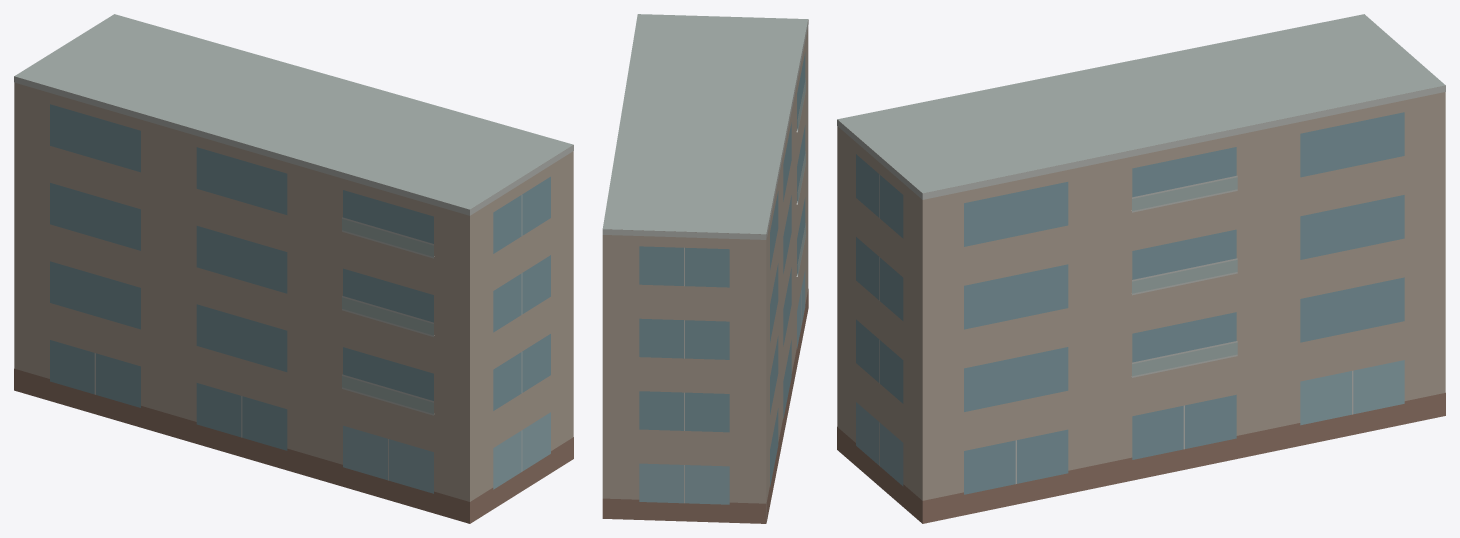
The model's file is survey-upis-32980582.glb.
The picture shows the model from 3 angles, left to right: view 1: azimuth 30°, elevation 25°; view 2: azimuth 150°, elevation 25°; view 3: azimuth 270°, elevation 25°; orthographic projection. The views are drawn at different scales.
Visible parts, largest first — view 1: survey-upis-32980582.tmp; view 2: survey-upis-32980582.tmp; view 3: survey-upis-32980582.tmp.
Part boxes in pixels (<box>): survey-upis-32980582.tmp: <box>14,14,573,523</box>; survey-upis-32980582.tmp: <box>602,14,808,523</box>; survey-upis-32980582.tmp: <box>837,14,1445,523</box>.
Size of the model in its own units: 14.45 by 12.4 by 20.71.
